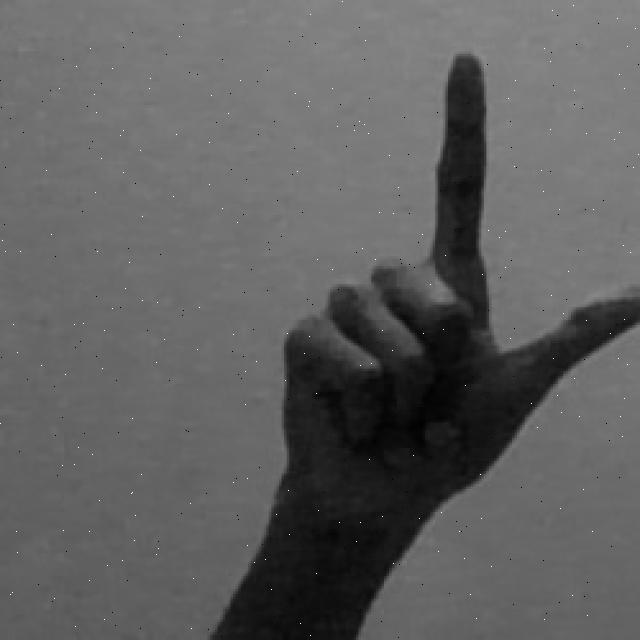L: (202, 46, 640, 640)
